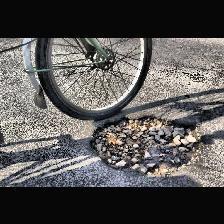pothole: (88, 114, 202, 174)
